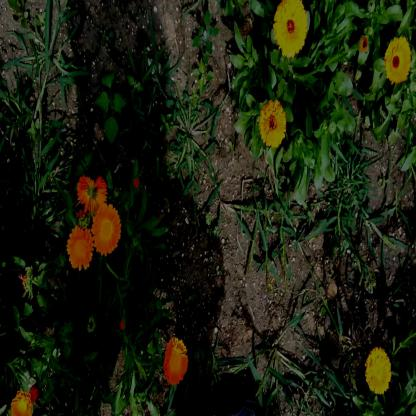marigold: (272, 4, 310, 57), (76, 171, 106, 216), (260, 99, 287, 146), (366, 348, 392, 396), (92, 206, 118, 254), (163, 337, 187, 385), (386, 38, 410, 83), (67, 226, 90, 270)
